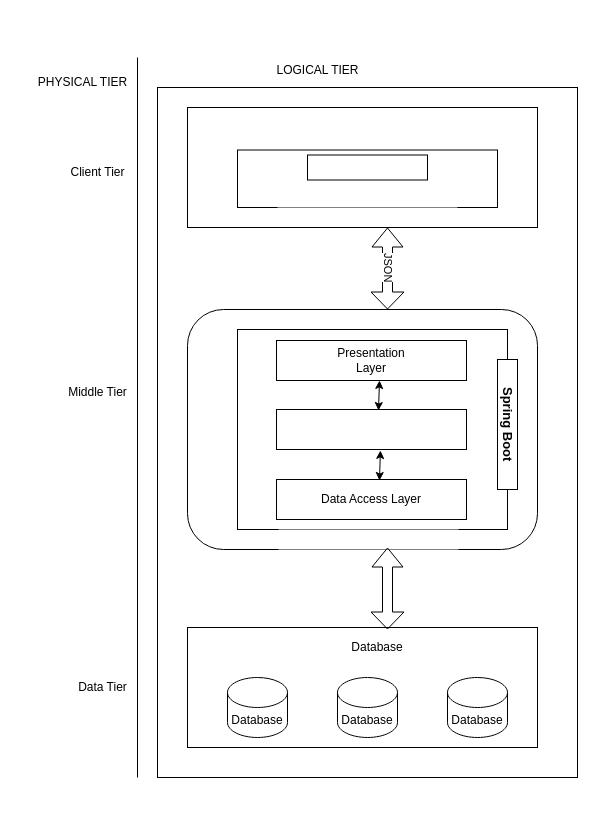
Some shapes in this 614 by 834 pixel diagram are drawn without their labels. The shapes that lost their labels are listed below. From the top down, each one's box as (x1, y1, x2, y2) in pixels, then its label:
(306, 154, 428, 180): Angular Framework
(277, 187, 457, 207): Single Page Application
(276, 408, 466, 450): Service Layer
(278, 529, 458, 549): Application Server
